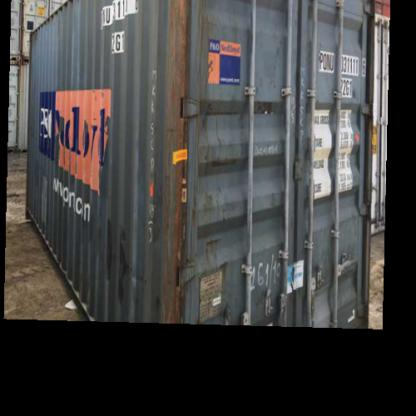Damage: (165, 0, 189, 323), (101, 222, 144, 301), (198, 97, 220, 167), (89, 84, 110, 124), (202, 230, 224, 266), (216, 294, 236, 322)
